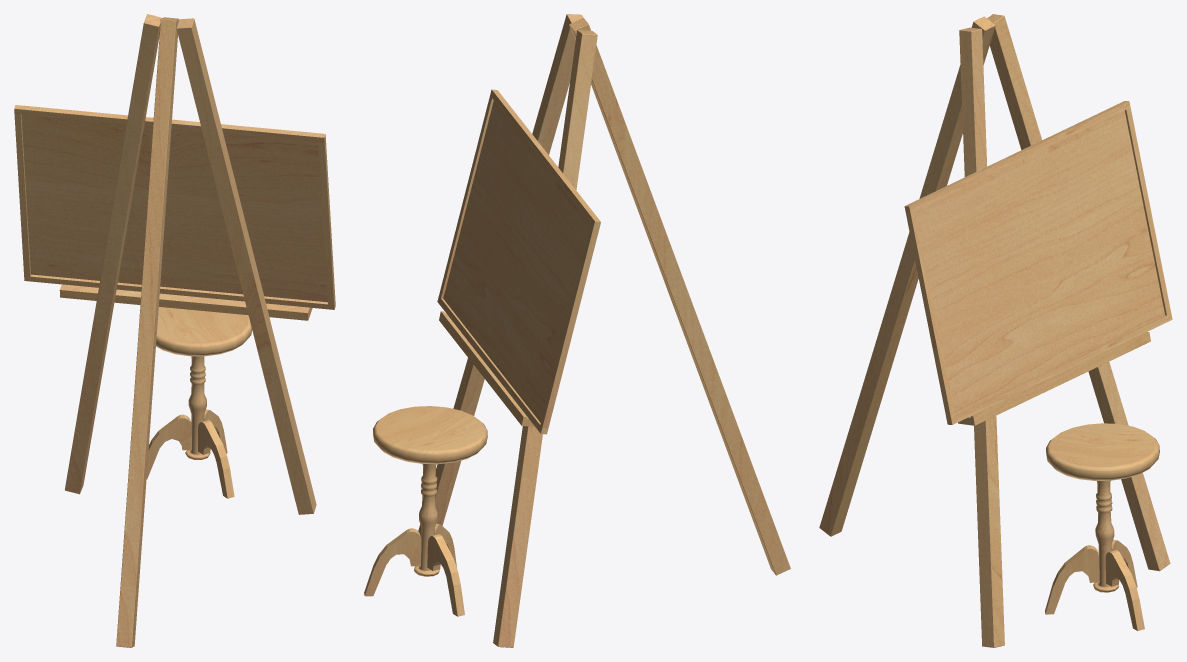
The model's file is huajia.fbx.
3 views of the same model, side by side, from view 1: azimuth 30°, elevation 25°; view 2: azimuth 150°, elevation 25°; view 3: azimuth 270°, elevation 25° (orthographic). The views are drawn at different scales.
Parts seen in each view (by area): view 1: huajia; view 2: huajia; view 3: huajia.
Part boxes in pixels (x1,y1,x2,y2): huajia: (14, 14, 335, 647); huajia: (364, 14, 790, 647); huajia: (819, 14, 1172, 647).
Size of the model in its own units: 102 by 191 by 107.
